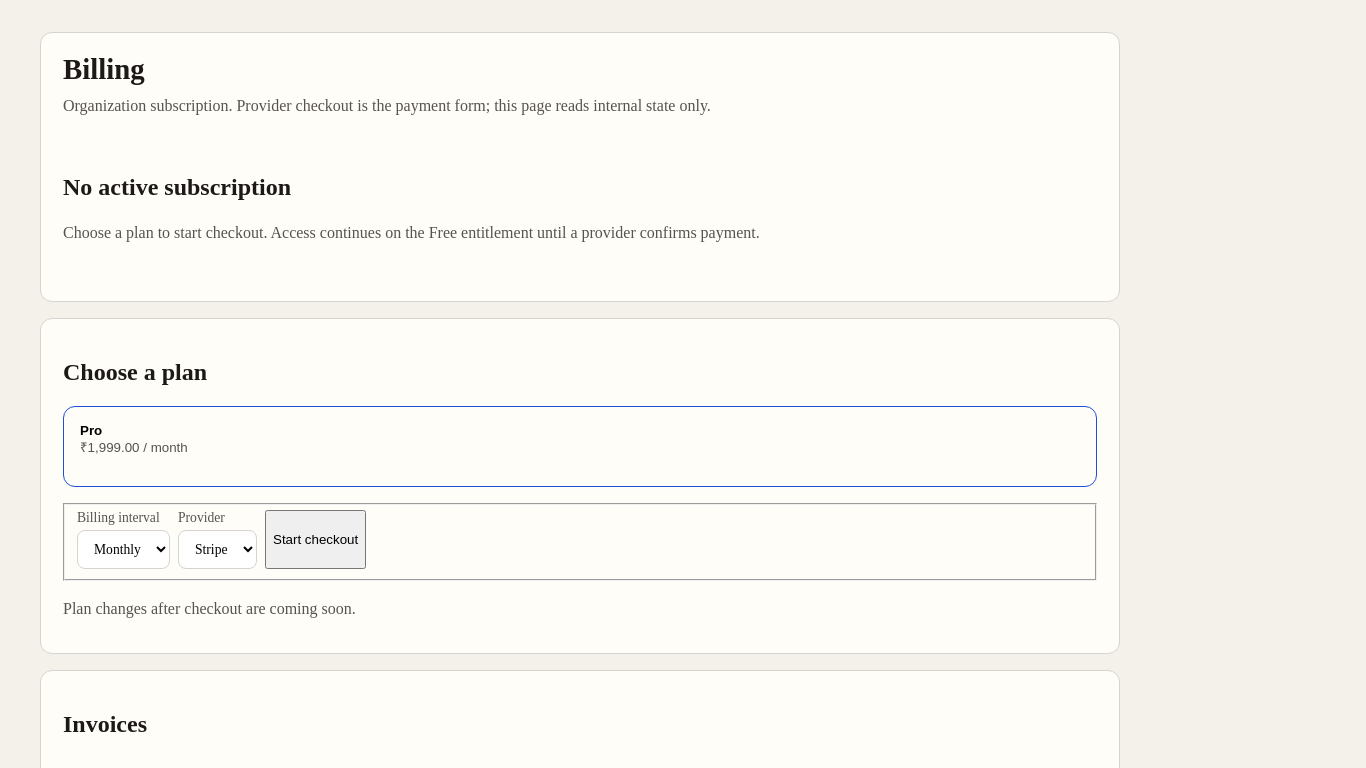
Scenario: Billing page › disables checkout while the request is pending
Click the button "Start checkout": (316, 540) top-left (265, 510), bottom-right (366, 569)
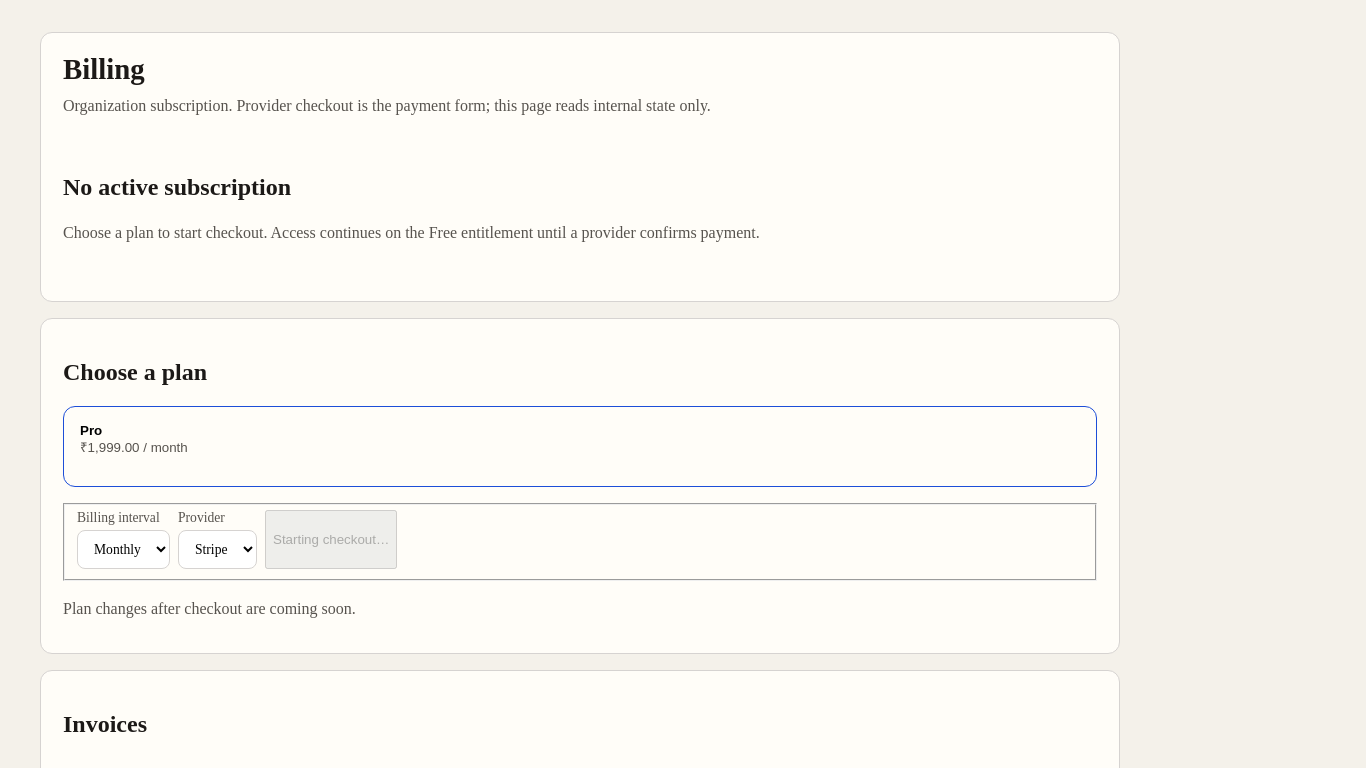
Check: the button "Starting checkout…" is disabled, box top-left (265, 510), bottom-right (397, 569)
